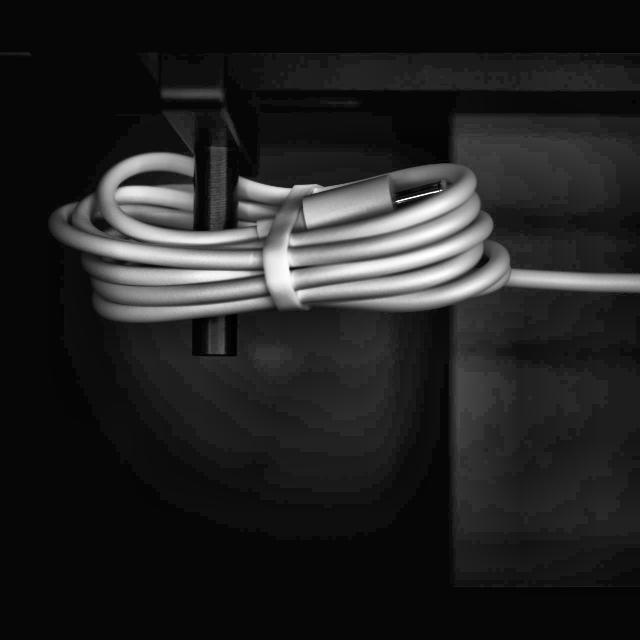Cable: (43, 147, 640, 332)
